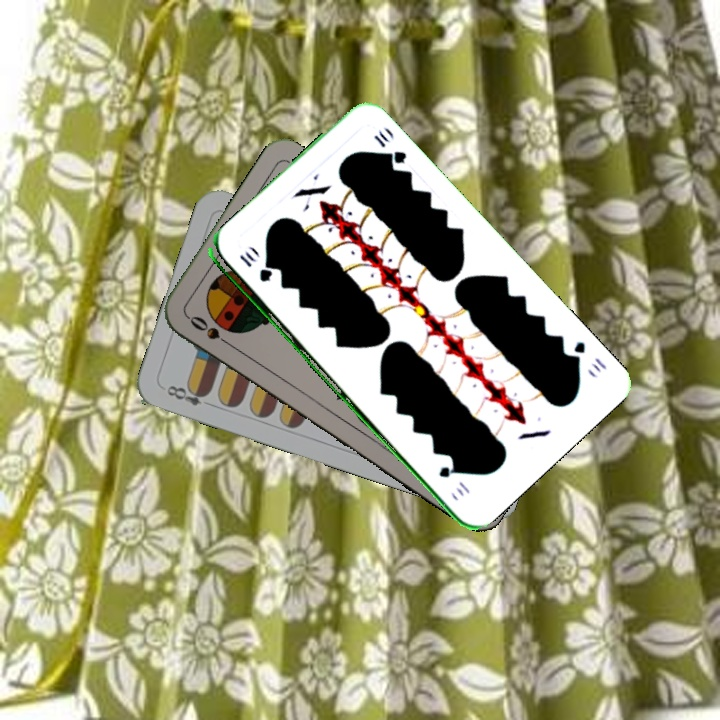E8: (162, 381, 217, 410)
G10: (564, 337, 609, 375), (235, 247, 273, 285)
SO: (184, 311, 236, 350)
